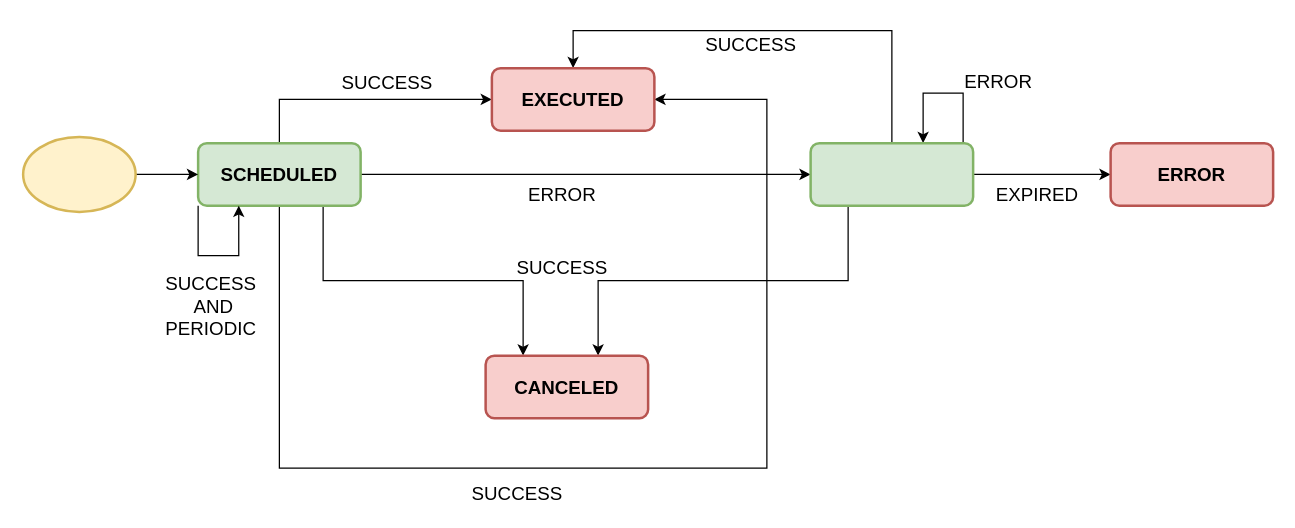
The diagram is 1295 pixels wide and 528 high, and some of its shapes have lost their labels. The centre of each missing label's shape, as x and y in pixels:
RETRY: the point at 891,173
START: the point at 78,173
